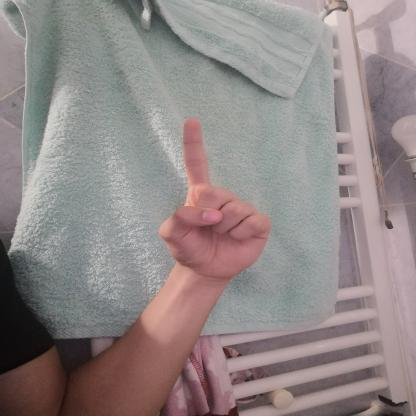BAA: (144, 110, 286, 288)
